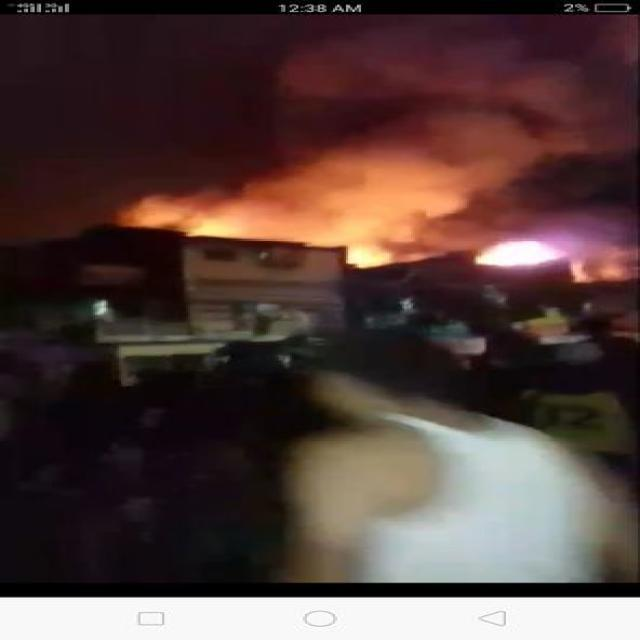Fire: (146, 188, 430, 254)
Smoke: (284, 18, 640, 196)
